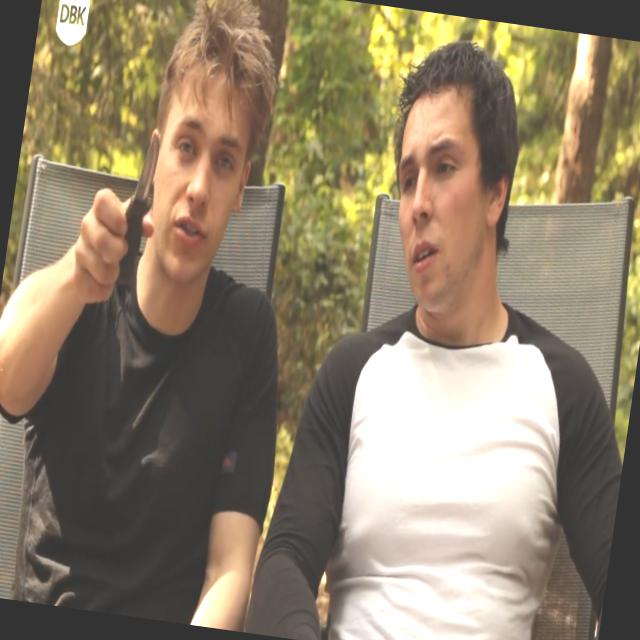knife: (104, 120, 164, 266)
